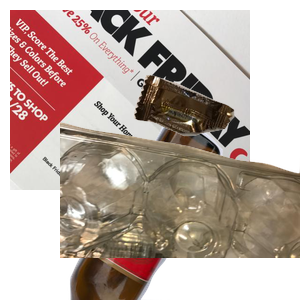glass: (67, 120, 282, 300)
paper: (10, 10, 250, 190)
plastic: (60, 120, 300, 300)
trash: (131, 73, 300, 202)
